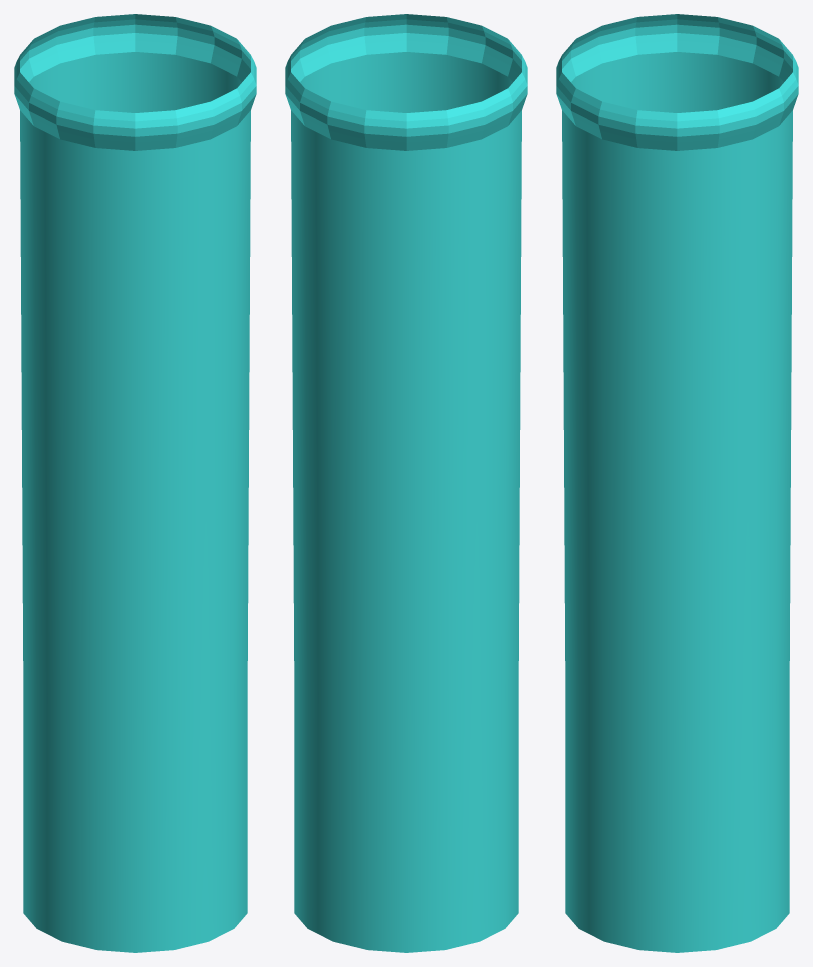
Rendered from TestTube_Up.FBX.
The picture shows the model from 3 angles, left to right: view 1: azimuth 30°, elevation 25°; view 2: azimuth 150°, elevation 25°; view 3: azimuth 270°, elevation 25°; orthographic projection.
Parts seen in each view (by area): view 1: Cylinder001; view 2: Cylinder001; view 3: Cylinder001.
Boxes of the visible parts, x1,y1,x2,y2 form: Cylinder001: (14,14,256,952); Cylinder001: (285,14,527,952); Cylinder001: (556,14,798,952).
Size of the model in its own units: 168 by 633 by 165.
